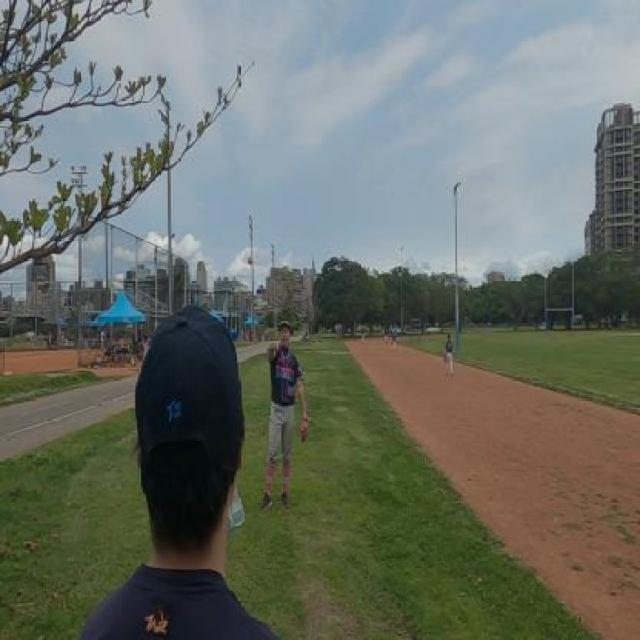baseball: (249, 256, 253, 266)
